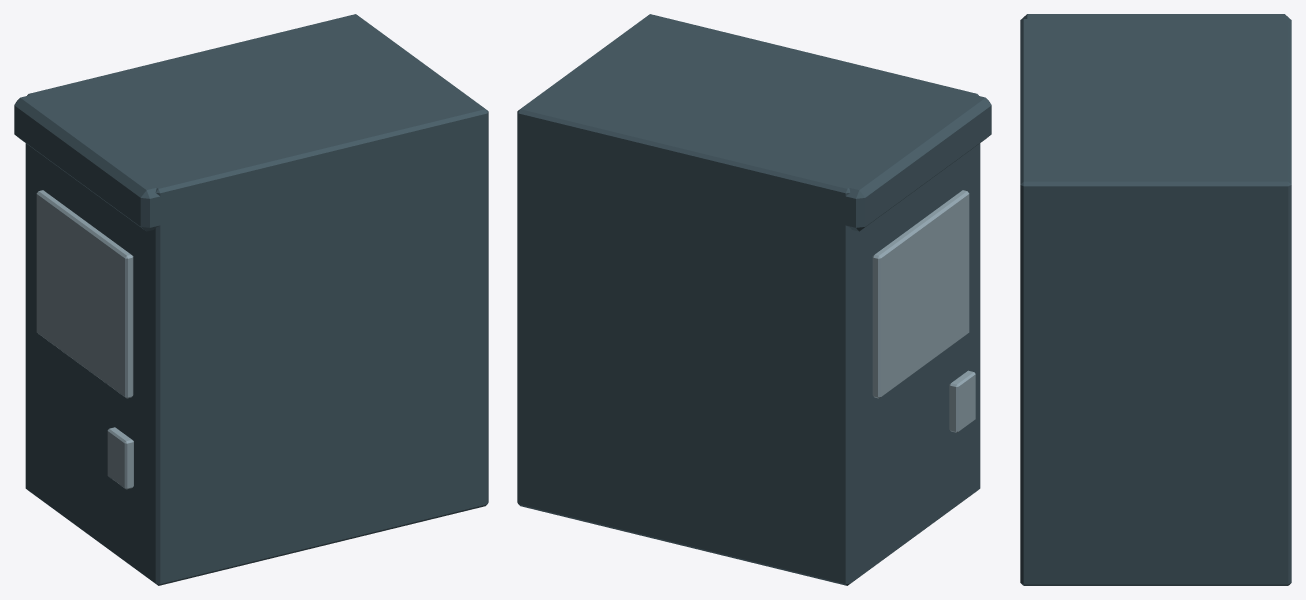
Rendered from pupitre_fer.glb.
3 views of the same model, side by side, from view 1: azimuth 30°, elevation 25°; view 2: azimuth 150°, elevation 25°; view 3: azimuth 270°, elevation 25° (orthographic).
Visible parts, largest first — view 1: pupitre_fer; view 2: pupitre_fer; view 3: pupitre_fer.
Boxes of the visible parts, x1=… form: pupitre_fer: x1=14, y1=14, x2=488, y2=585; pupitre_fer: x1=517, y1=14, x2=991, y2=585; pupitre_fer: x1=1020, y1=14, x2=1291, y2=585.
Size of the model in its own units: 1.05 by 1.15 by 0.7.
1 material, 1 textured.
